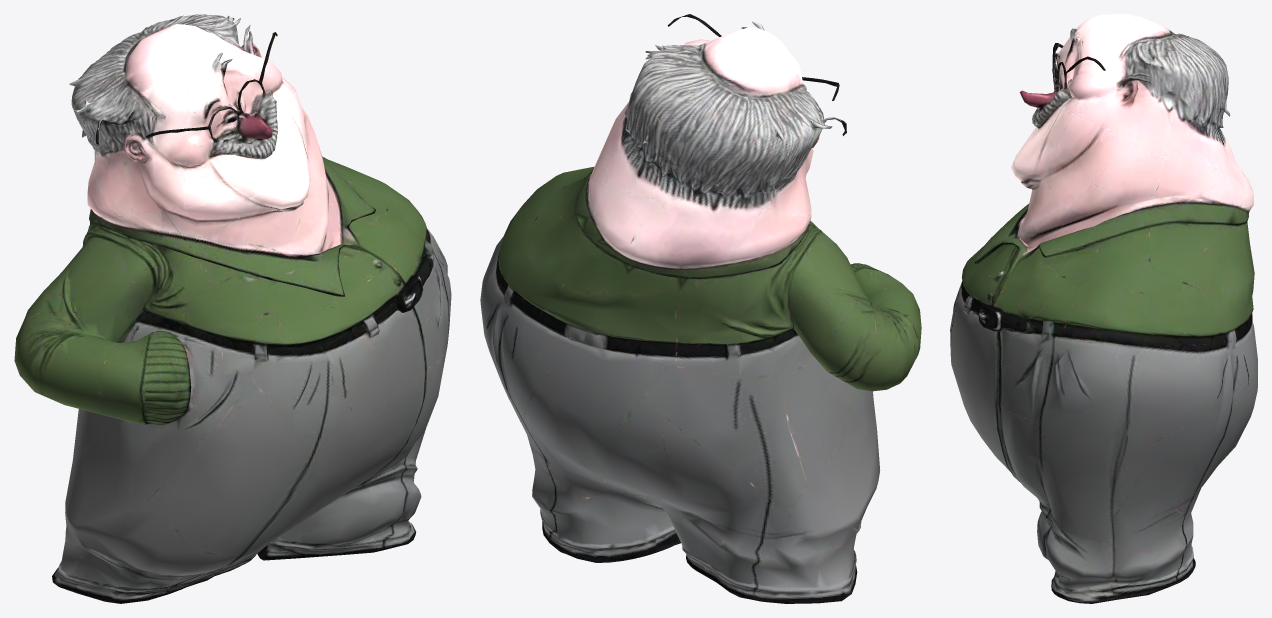
Rendered from jolly_portly.glb.
3 views of the same model, side by side, from view 1: azimuth 30°, elevation 25°; view 2: azimuth 150°, elevation 25°; view 3: azimuth 270°, elevation 25° (orthographic). The views are drawn at different scales.
Size of the model in its own units: 1.53 by 1.9 by 1.07.
Materials: 1 (1 with a texture image).
